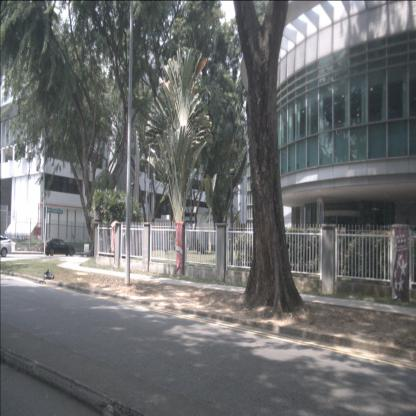vehicle-car: (42, 238, 76, 257), (0, 235, 12, 258)
